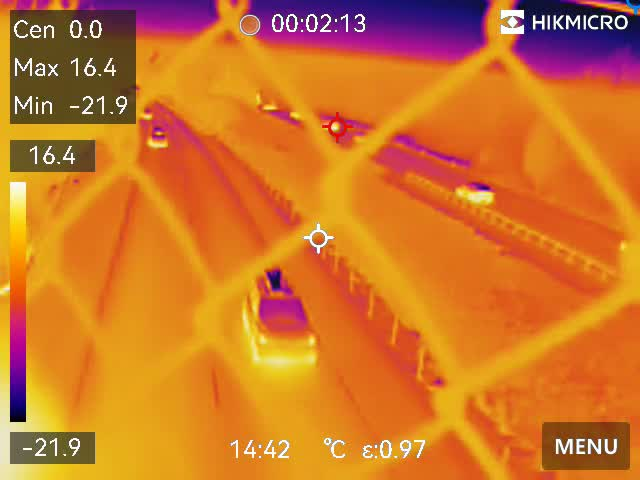vehicle: (238, 265, 319, 374), (449, 180, 498, 204), (146, 127, 174, 153), (139, 107, 158, 125), (258, 101, 282, 113), (289, 109, 304, 125)
